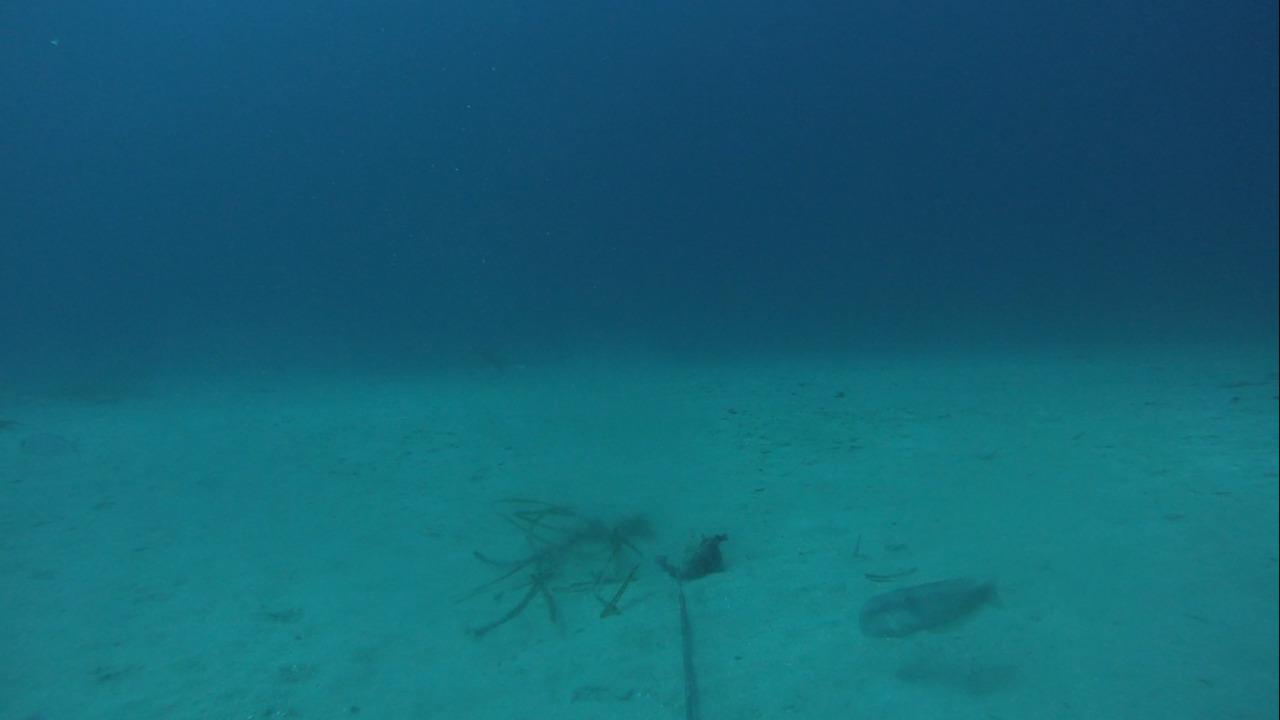raor: (854, 572, 1008, 646)
